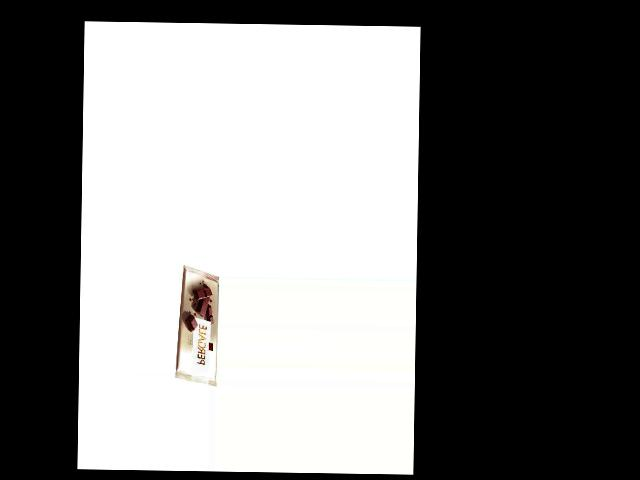chocolate: (176, 262, 219, 387)
